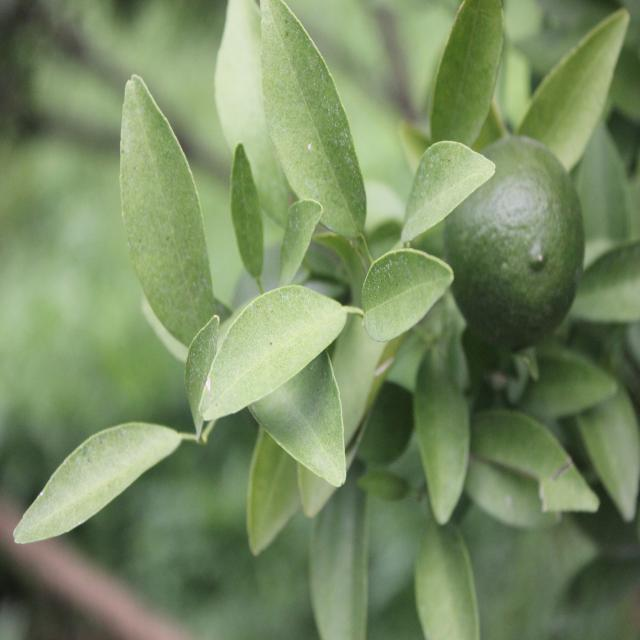blackspot: (29, 422, 154, 538), (119, 121, 202, 294), (236, 319, 286, 390)
